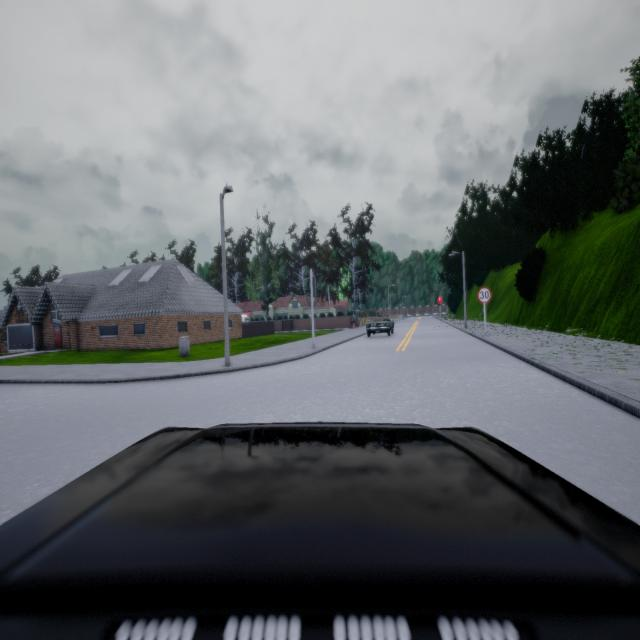Speed Limit -30-: (478, 287, 491, 303)
